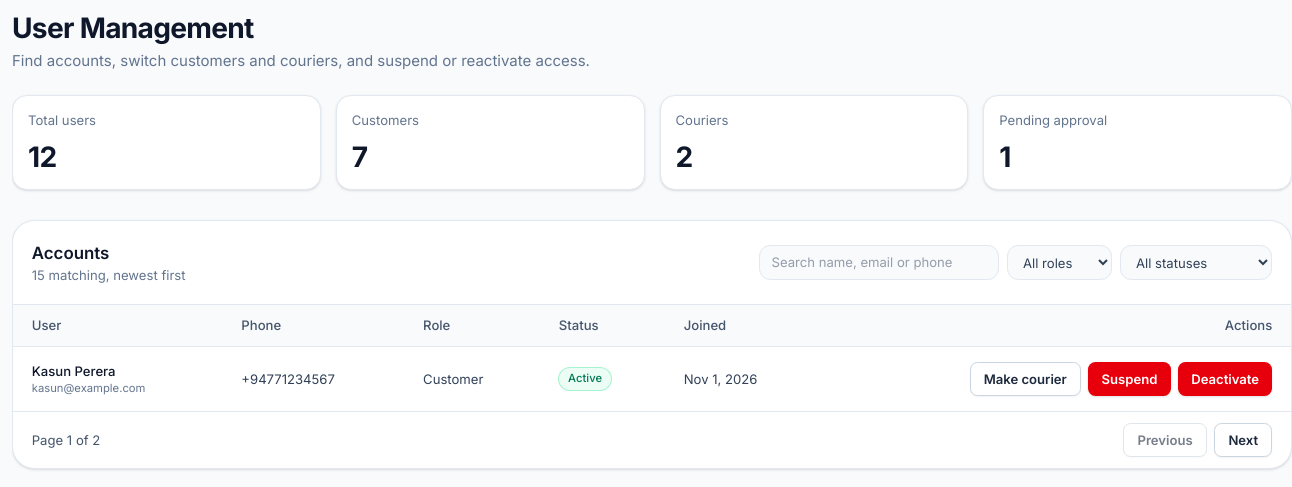
Test: pages through long lists
Expected: the text "Page 1 of 2" is shown, [32, 430, 100, 449]
Expected: the button "Previous" is disabled, [1123, 423, 1207, 457]
Click the button "Next": (1243, 440) [1214, 423, 1272, 457]
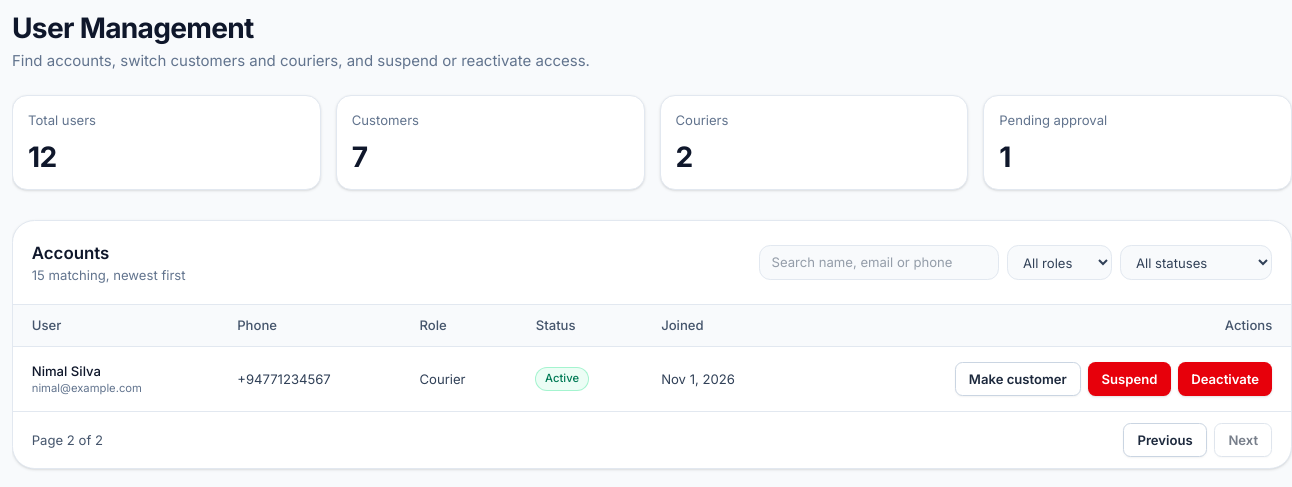
Expected: the text "Nimal Silva" is shown, [32, 363, 101, 379]
Expected: the text "Page 2 of 2" is shown, [32, 430, 103, 449]
Expected: the button "Next" is disabled, [1214, 423, 1272, 457]
Click the button "Previous": (1165, 440) [1123, 423, 1207, 457]
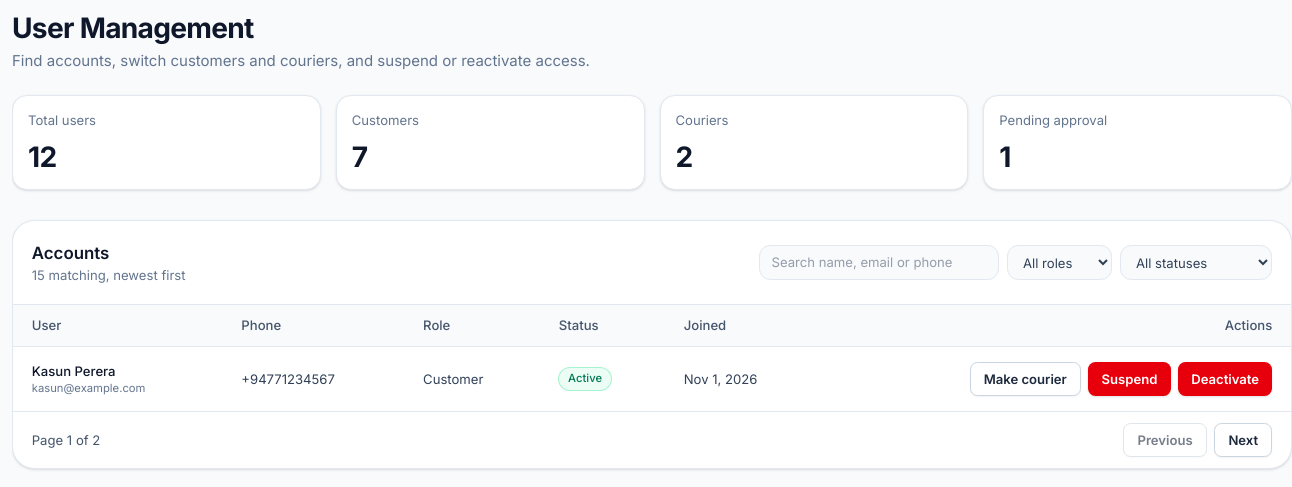
Expected: the text "Kasun Perera" is shown, [32, 363, 116, 379]
